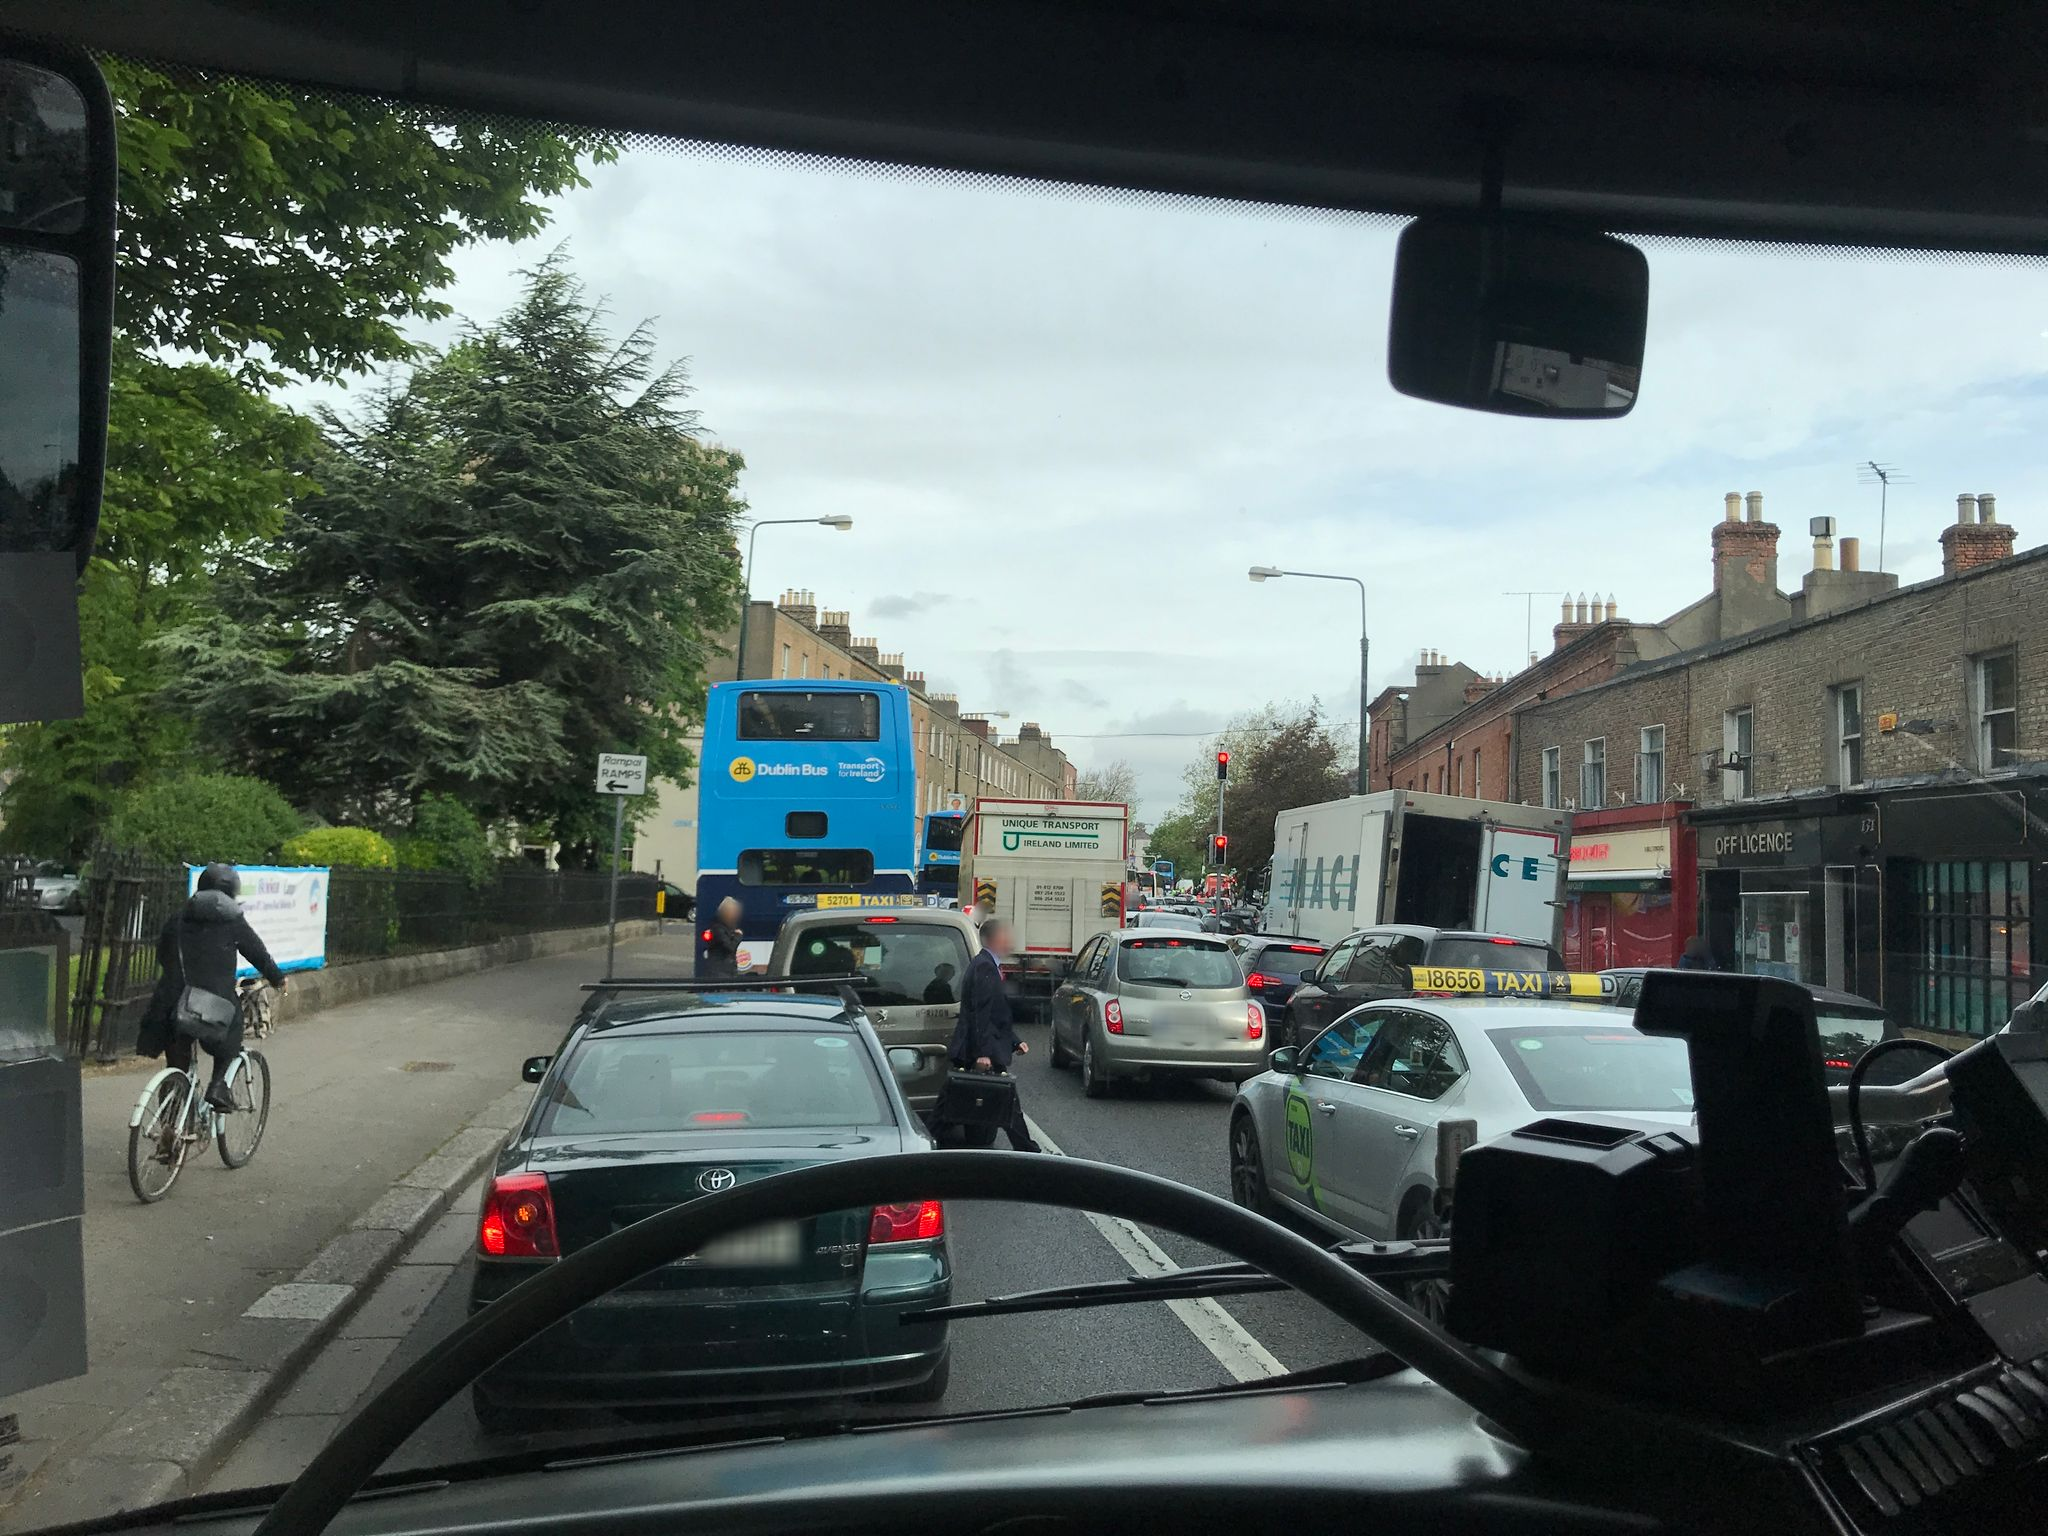vinyl banner: (177, 836, 355, 992)
